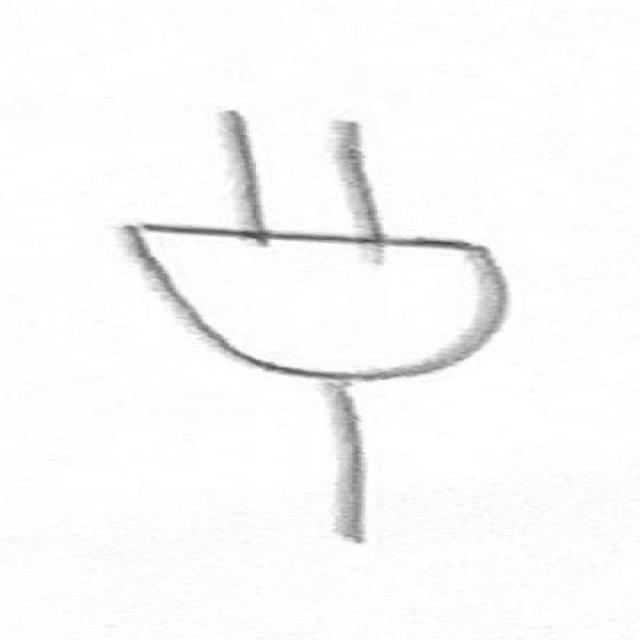AND: (57, 204, 541, 401)
